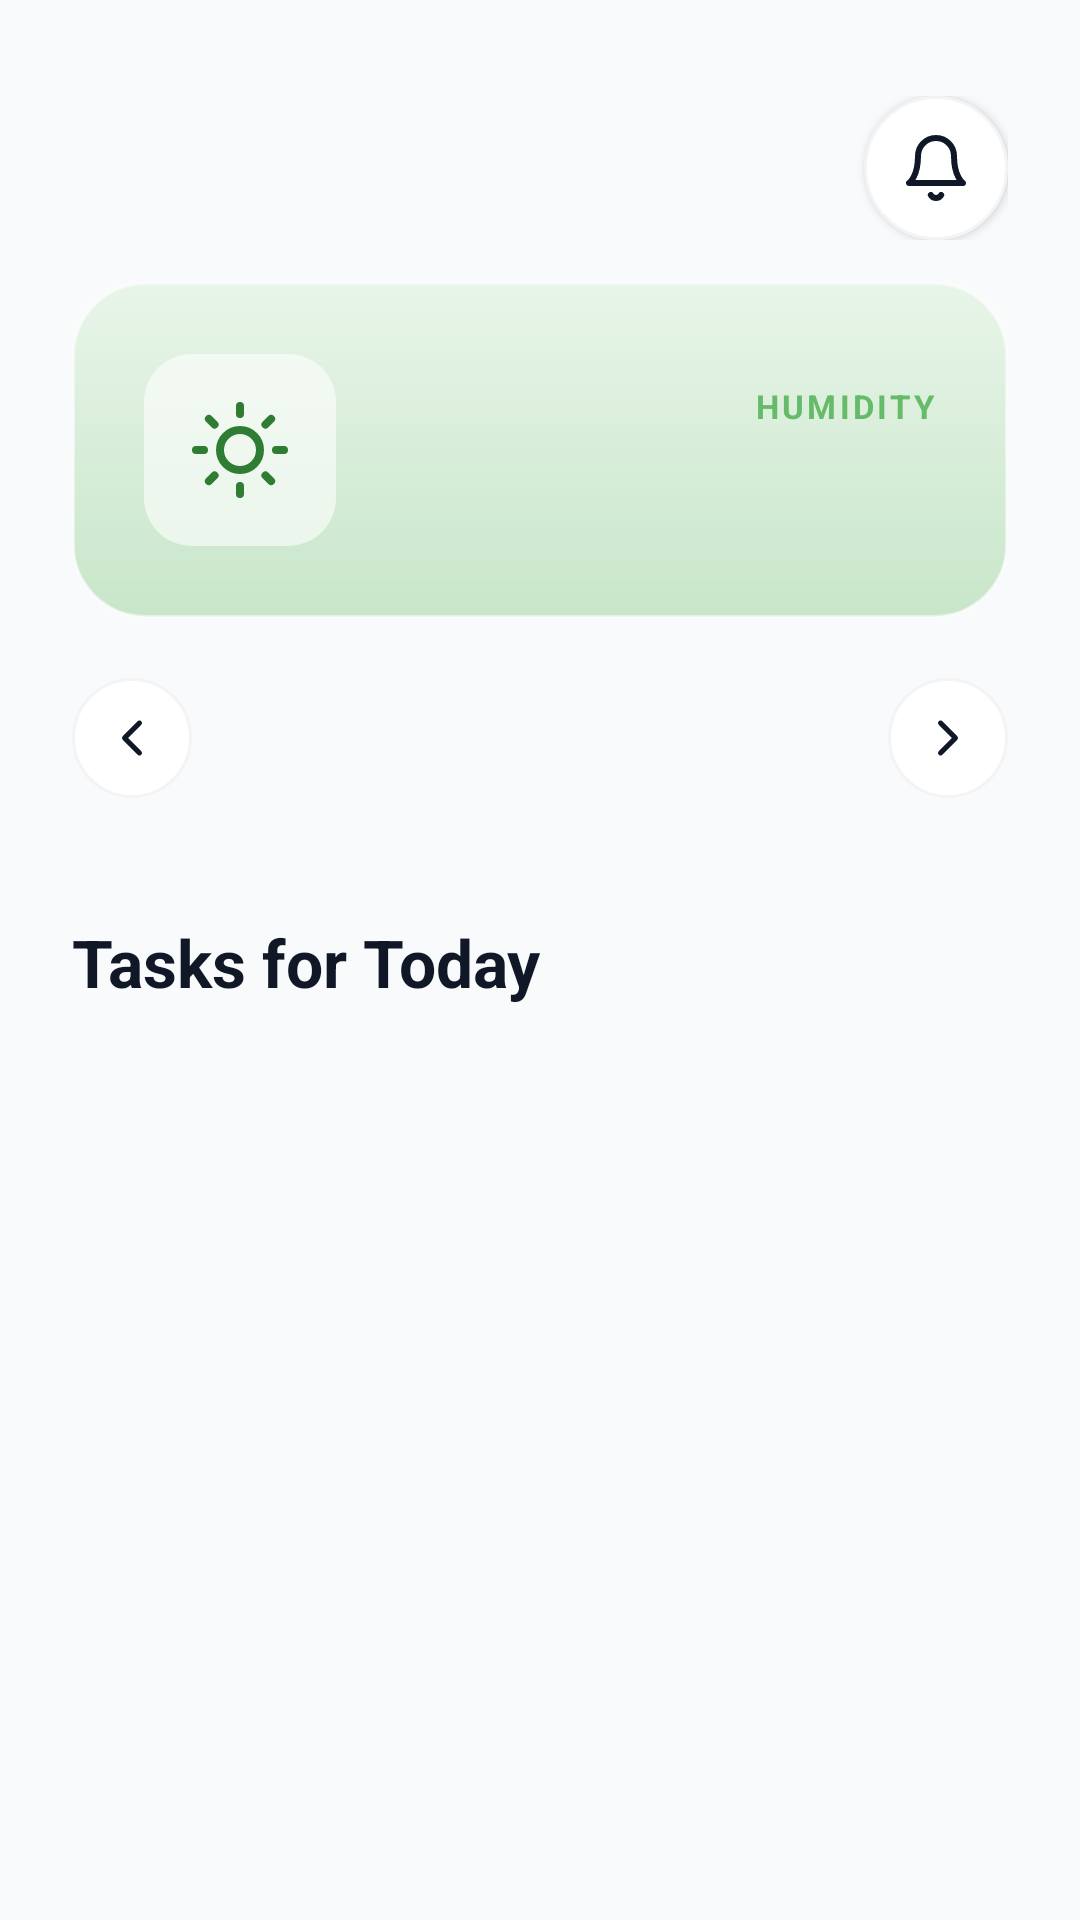

Icon bounding boxes for this 1080 × 1920 phone screenshot, format (x1,y1,x2,y2):
chevron left: (122,720,142,756)
chevron right: (938,720,958,756)
Notifications: (906,135,1008,225)
Weather Icon: (144,354,336,546)
